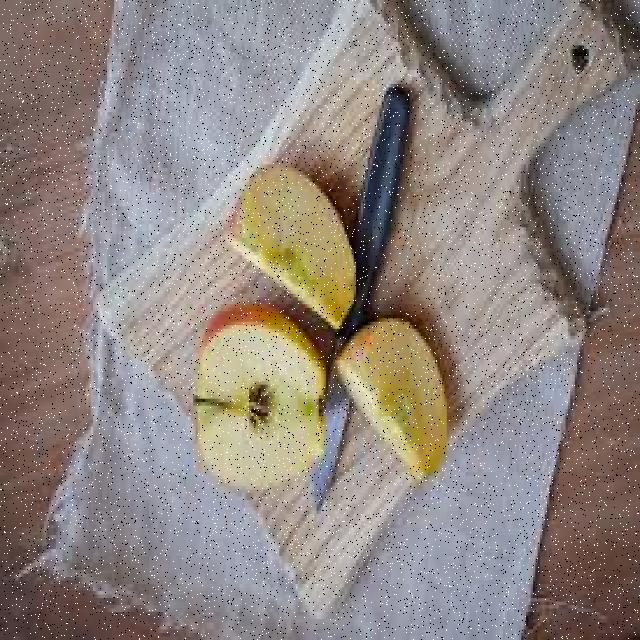Apple: (198, 310, 324, 486), (226, 160, 358, 320), (338, 316, 444, 476)
